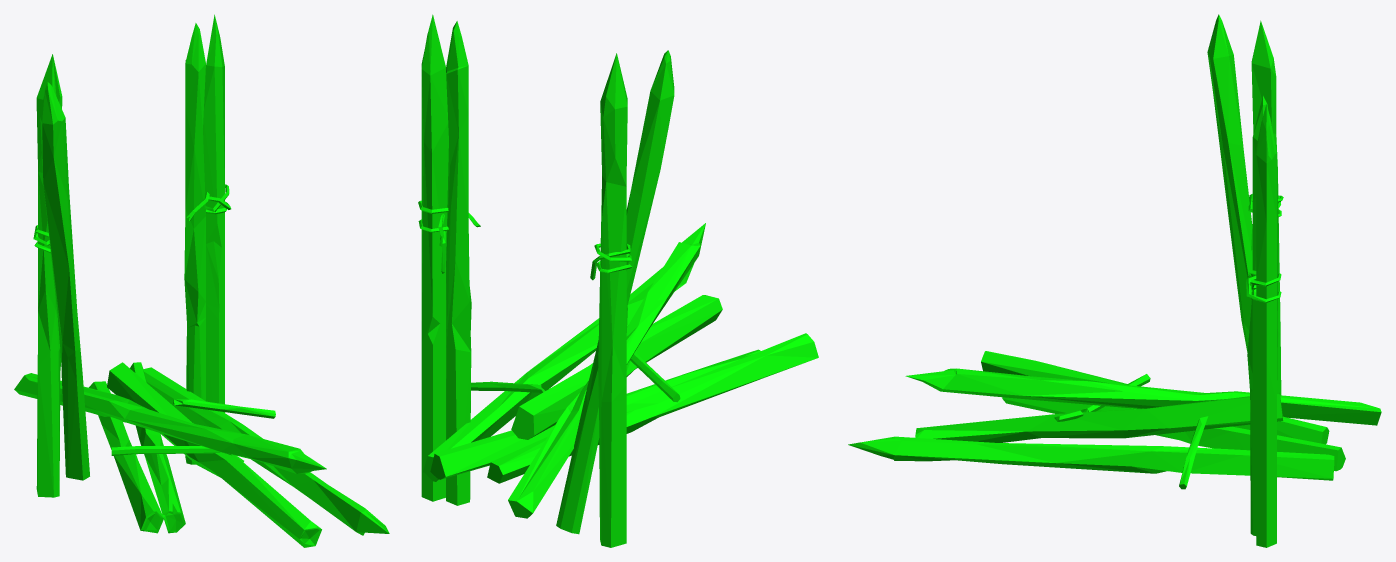
File: SM_Palisade_3m_Broken_A.fbx
3 renders of one model, left to right at view 1: azimuth 30°, elevation 25°; view 2: azimuth 150°, elevation 25°; view 3: azimuth 270°, elevation 25°, orthographic. The views are drawn at different scales.
Parts seen in each view (by area): view 1: palisade-3m-broken-a; view 2: palisade-3m-broken-a; view 3: palisade-3m-broken-a.
Part boxes in pixels (<box>): palisade-3m-broken-a: <box>14,14,389,547</box>; palisade-3m-broken-a: <box>418,14,818,547</box>; palisade-3m-broken-a: <box>848,14,1381,547</box>.
Bounding box in the file's own units: 3.73 × 6.79 × 7.43.
